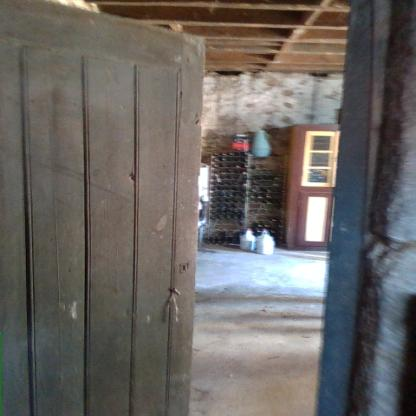semi: (0, 0, 367, 416)
